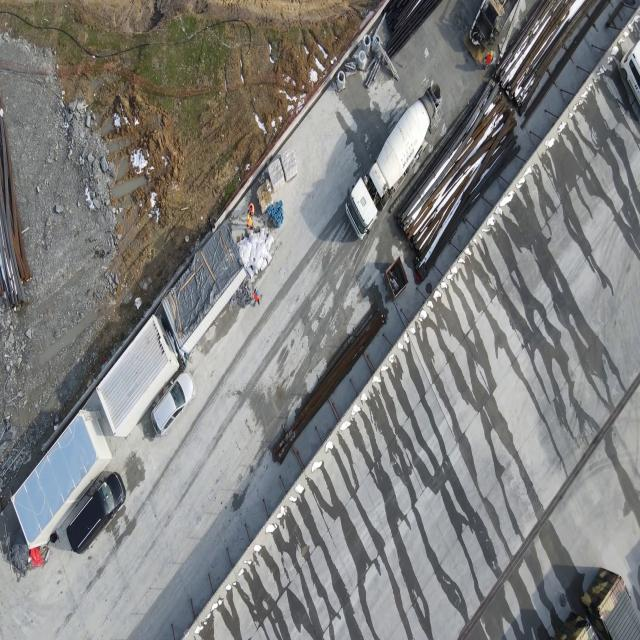p3rson: (252, 286, 264, 307), (482, 50, 493, 70), (246, 214, 256, 231), (207, 216, 215, 232), (247, 202, 254, 215)
